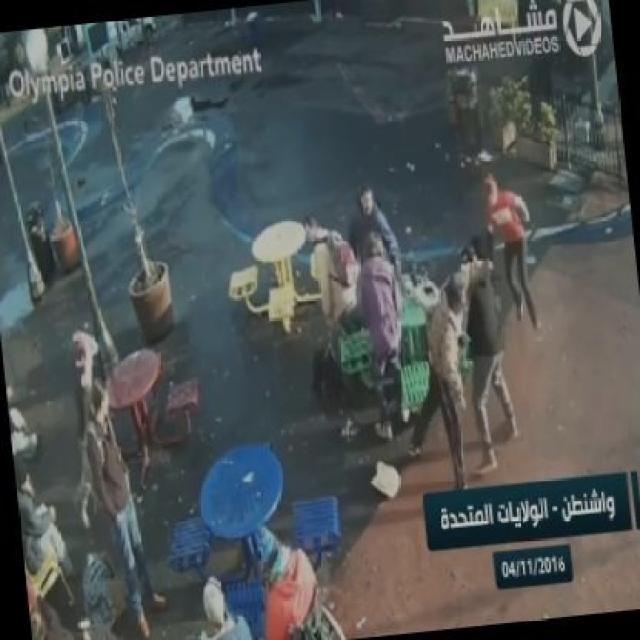fight: (394, 245, 524, 489), (474, 172, 544, 332)
non-fight: (74, 374, 160, 634), (349, 225, 415, 439), (298, 212, 363, 426)
